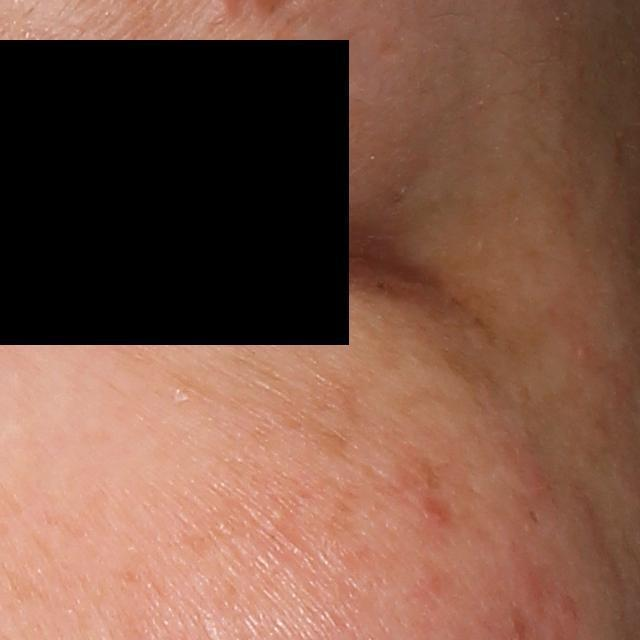papule: (418, 496, 446, 525)
